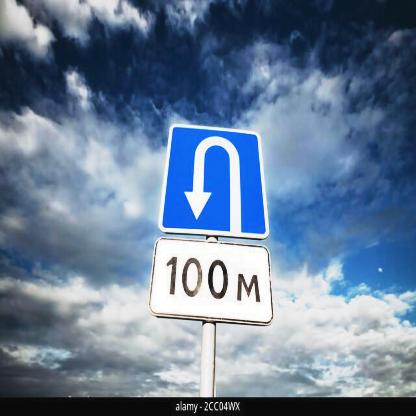U-turn: (167, 121, 267, 235)
